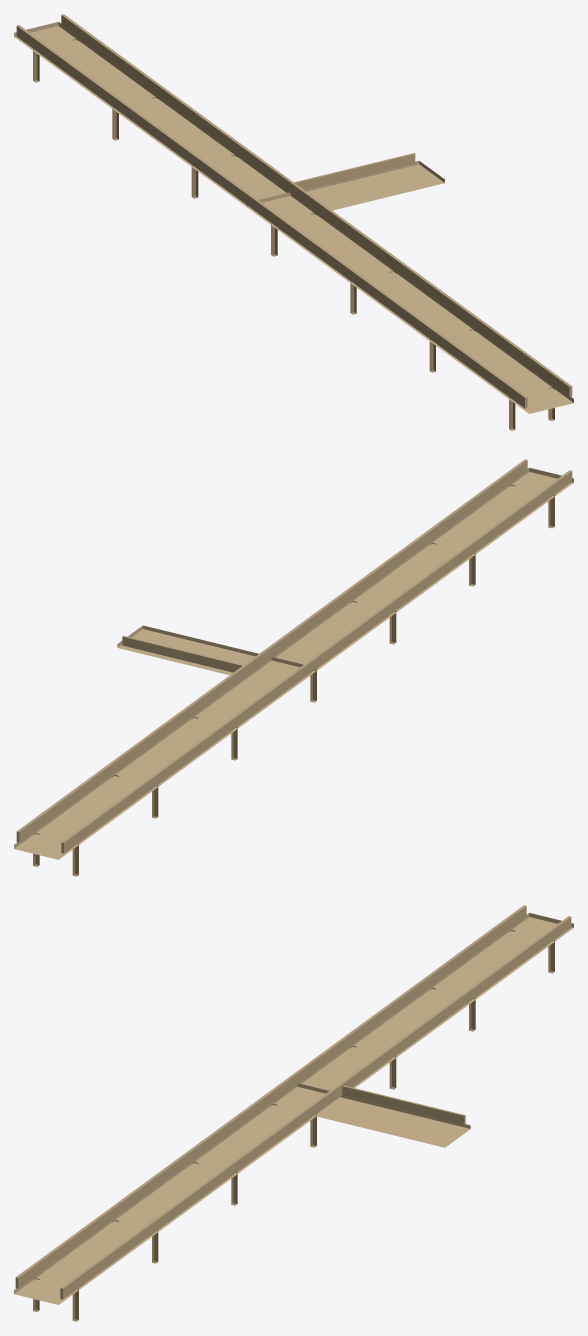
Rendered from sav_pier_west.glb.
3 renders of one model, top to bottom at view 1: azimuth 30°, elevation 25°; view 2: azimuth 150°, elevation 25°; view 3: azimuth 330°, elevation 25°, orthographic.
Visible parts, largest first — view 1: sav_pier_west_lod0; view 2: sav_pier_west_lod0; view 3: sav_pier_west_lod0.
Part boxes in pixels (x1,y1,x2,y2): sav_pier_west_lod0: (14, 14, 573, 430); sav_pier_west_lod0: (14, 459, 573, 876); sav_pier_west_lod0: (14, 905, 573, 1321).
Size of what is drawn, in the model's own units: 10.18 by 2.5 by 52.
